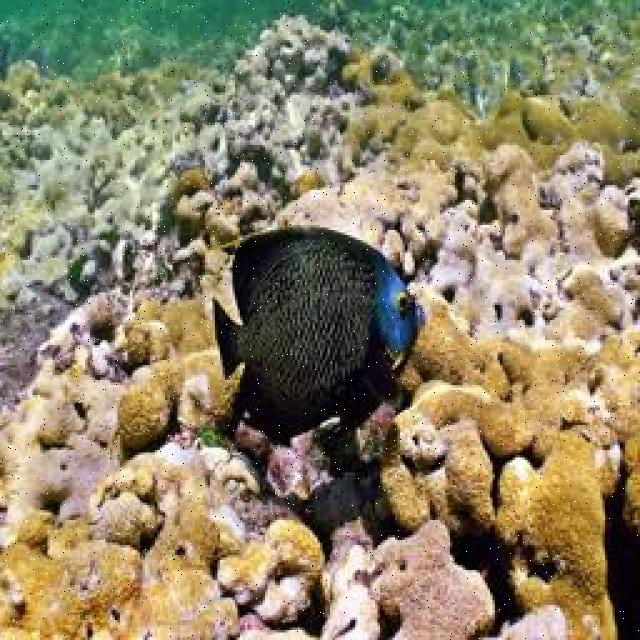fish: (213, 226, 420, 455)
